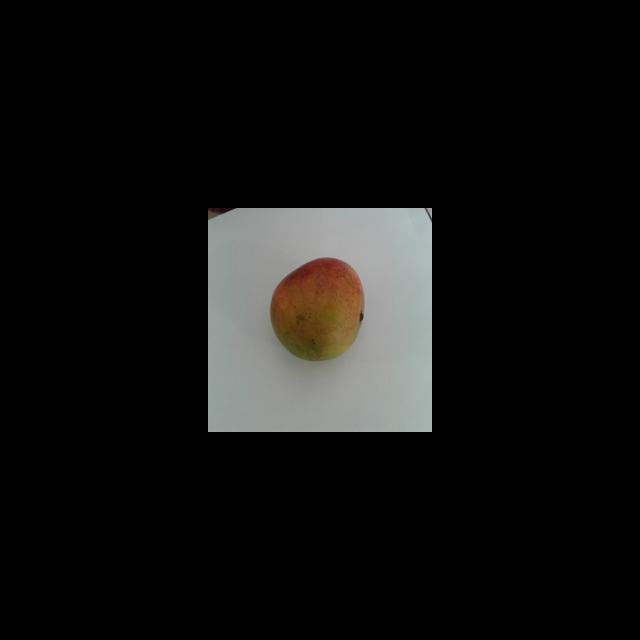Mango: (269, 256, 364, 361)
